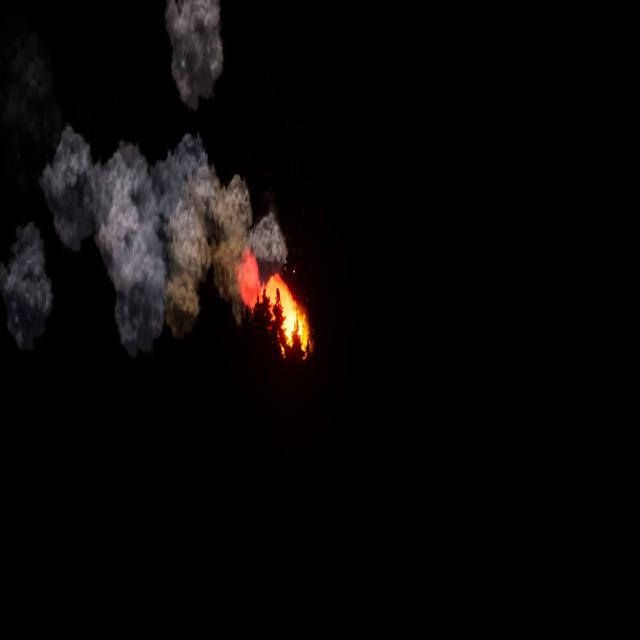fire: (234, 242, 312, 362)
smoke: (0, 124, 291, 349), (166, 0, 228, 104)
